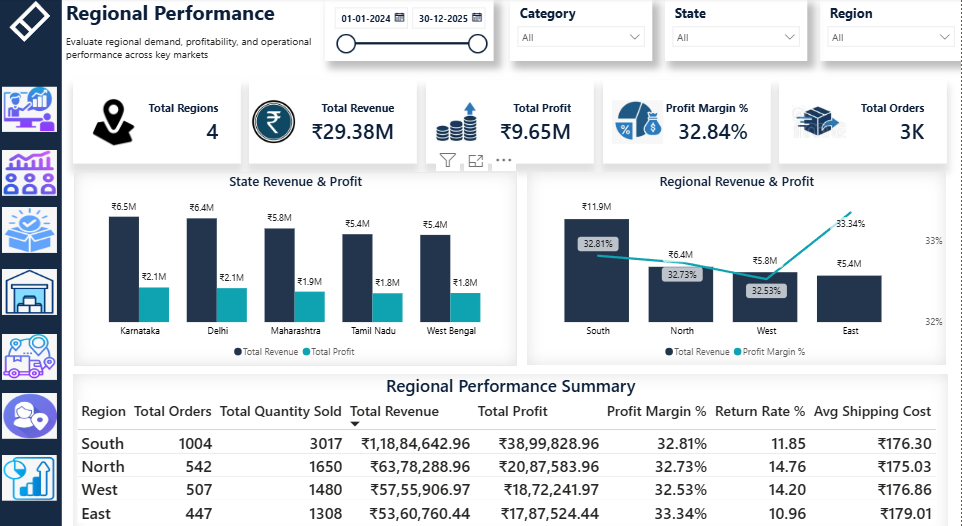

Layout of this report page (visuals, bound fields, positions):
{"tool":"powerbi","page":{"name":"Regional Performance","canvas":[1280,720],"ordinal":5},"visuals":[{"type":"shape","box":[0,0,84.9,720],"z":0,"group":"g2"},{"type":"textbox","title":"Regional Performance","box":[85.3,0,370.2,44],"z":0},{"type":"image","title":"Executive summary","box":[5.9,117.1,73.2,61.5],"z":0,"group":"g1"},{"type":"actionButton","box":[0,0,84.9,62.9],"z":1000,"group":"g2"},{"type":"cardVisual","title":"Total Revenue KPI","fields":{"Data":["Measure Table.Total Regions"]},"box":[99.1,108.7,223,111.5],"z":1000},{"type":"image","title":"Demand & customer","box":[5.9,202,73.2,61.5],"z":1000,"group":"g1"},{"type":"cardVisual","title":"Total Revenue KPI","fields":{"Data":["Measure Table.Total Revenue"]},"box":[333.8,108.7,223,111.5],"z":2000},{"type":"group","id":"g1","title":"Navigation page buttons","box":[5.9,117.1,73.2,551.7],"z":2000,"group":"g2"},{"type":"image","title":"Inventory","box":[5.9,278.1,73.2,61.5],"z":2000,"group":"g1"},{"type":"cardVisual","title":"Total Revenue KPI","fields":{"Data":["Measure Table.Total Profit"]},"box":[568.4,108.7,223,111.5],"z":3000},{"type":"image","title":"Warehouse","box":[5.9,360,73.2,61.5],"z":3000,"group":"g1"},{"type":"cardVisual","title":"Total Revenue KPI","fields":{"Data":["Measure Table.Profit Margin %"]},"box":[803.1,108.7,223,111.5],"z":4000},{"type":"image","title":"Regional","box":[5.9,525.4,73.2,61.5],"z":4000,"group":"g1"},{"type":"cardVisual","title":"Total Revenue KPI","fields":{"Data":["Measure Table.Total Orders"]},"box":[1037.8,108.7,223,111.5],"z":5000},{"type":"image","title":"Delivery","box":[5.9,446.4,73.2,61.5],"z":5000,"group":"g1"},{"type":"clusteredColumnChart","title":"State Revenue & Profit ","fields":{"Y":["Measure Table.Total Revenue","Measure Table.Total Profit"],"Category":["customers.State"]},"box":[100.5,231.2,589.1,257.4],"z":6000},{"type":"image","title":"Scorecard","box":[5.9,607.3,73.2,61.5],"z":6000,"group":"g1"},{"type":"textbox","box":[85.3,44,370.2,52.3],"z":7000},{"type":"slicer","fields":{"Values":["Calendar Table.Date"]},"box":[434.9,2.8,224.3,81.2],"z":8000},{"type":"slicer","fields":{"Values":["products.Category"]},"box":[679.9,2.8,188.6,81.2],"z":9000},{"type":"image","title":"Total Revenue KPI","box":[573.9,132.8,75.7,63.8],"z":10000},{"type":"image","title":"Total Revenue KPI","box":[119.6,132.8,66.4,63.8],"z":11000},{"type":"image","title":"Total Revenue KPI","box":[334.5,133.5,63.3,63.3],"z":12000},{"type":"image","title":"Total Revenue KPI","box":[815.6,132.8,67.7,63.8],"z":13000},{"type":"image","title":"Total Revenue KPI","box":[1054.8,132.8,73.1,63.8],"z":14000},{"type":"lineClusteredColumnComboChart","title":"Regional Revenue & Profit ","fields":{"Y":["Measure Table.Total Revenue"],"Y2":["Measure Table.Profit Margin %"],"Category":["customers.Region"]},"box":[703.3,231.2,557.4,257.4],"z":15000},{"type":"tableEx","title":"Regional Performance Summary","fields":{"Values":["customers.Region","Measure Table.Total Orders","Measure Table.Total Quantity Sold","Measure Table.Total Revenue","Measure Table.Total Profit","Measure Table.Profit Margin %","Measure Table.Return Rate %","Measure Table.Avg Shipping Cost"]},"box":[99.1,499.6,1163,220.2],"z":16000},{"type":"slicer","fields":{"Values":["customers.Region"]},"box":[1091.4,2.8,188.6,81.2],"z":17000},{"type":"slicer","fields":{"Values":["customers.State"]},"box":[886.4,2.8,188.6,81.2],"z":18000},{"type":"group","id":"g2","title":"Navigation bar","box":[0,0,84.9,720],"z":19000}]}

Visuals, with their boxes on the page's 1280x720 design canvas (x1, y1, x2, y2). These are canvas units, not pixel positions in the 962x526 screenshot, which may show the page scaled, cropped or inside an application window:
shape: detection(0, 0, 85, 720)
"Regional Performance" textbox: detection(85, 0, 456, 44)
"Executive summary" image: detection(6, 117, 79, 179)
actionButton: detection(0, 0, 85, 63)
"Total Revenue KPI" cardVisual: detection(99, 109, 322, 220)
"Demand & customer" image: detection(6, 202, 79, 264)
"Total Revenue KPI" cardVisual: detection(334, 109, 557, 220)
"Navigation page buttons" group: detection(6, 117, 79, 669)
"Inventory" image: detection(6, 278, 79, 340)
"Total Revenue KPI" cardVisual: detection(568, 109, 791, 220)
"Warehouse" image: detection(6, 360, 79, 422)
"Total Revenue KPI" cardVisual: detection(803, 109, 1026, 220)
"Regional" image: detection(6, 525, 79, 587)
"Total Revenue KPI" cardVisual: detection(1038, 109, 1261, 220)
"Delivery" image: detection(6, 446, 79, 508)
"State Revenue & Profit " clusteredColumnChart: detection(100, 231, 690, 489)
"Scorecard" image: detection(6, 607, 79, 669)
textbox: detection(85, 44, 456, 96)
slicer - Calendar Table.Date: detection(435, 3, 659, 84)
slicer - products.Category: detection(680, 3, 868, 84)
"Total Revenue KPI" image: detection(574, 133, 650, 197)
"Total Revenue KPI" image: detection(120, 133, 186, 197)
"Total Revenue KPI" image: detection(334, 134, 398, 197)
"Total Revenue KPI" image: detection(816, 133, 883, 197)
"Total Revenue KPI" image: detection(1055, 133, 1128, 197)
"Regional Revenue & Profit " lineClusteredColumnComboChart: detection(703, 231, 1261, 489)
"Regional Performance Summary" tableEx: detection(99, 500, 1262, 720)
slicer - customers.Region: detection(1091, 3, 1280, 84)
slicer - customers.State: detection(886, 3, 1075, 84)
"Navigation bar" group: detection(0, 0, 85, 720)
